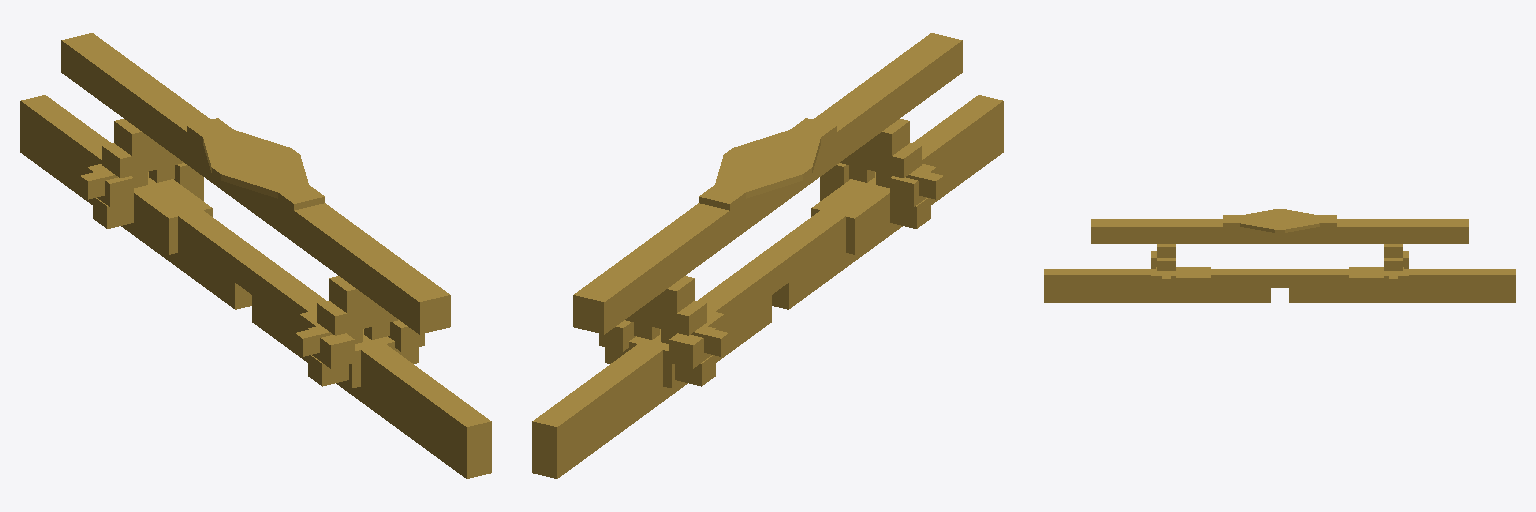
URDF robot description (gripper_beam_1C_90deg_3mm):
<?xml version="1.0" ?>
<robot name="gripper_beam_1C_90deg_3mm">
    <link name="gripper_beam_1C_90deg_3mm">
        <inertial>
            <origin rpy="0 0 0" xyz="-8.173542509136381e-19 4.919694157880184e-18 -0.12804086440536944"/>
            <mass value="4.310275841129159"/>
            <inertia ixx="0.0009413956070068256" ixy="7.905640841040137e-22" ixz="-4.517509052022935e-22" iyy="5.320772089153263e-05" iyz="-8.608675500661352e-21" izz="0.0008984210008906098"/>
        </inertial>
        <visual>
            <geometry>
                <mesh filename="gripper_beam_1C_90deg_3mm/meshes/visual/gripper_beam_1C_90deg_3mm.stl"/>
            </geometry>
            <material name="gripper_beam_1C_90deg_3mm"/>
        </visual>
        <collision>
            <geometry>
                <mesh filename="gripper_beam_1C_90deg_3mm/meshes/collision/gripper_beam_1C_90deg_3mm_0.stl"/>
            </geometry>
        </collision>
        <collision>
            <geometry>
                <mesh filename="gripper_beam_1C_90deg_3mm/meshes/collision/gripper_beam_1C_90deg_3mm_1.stl"/>
            </geometry>
        </collision>
        <collision>
            <geometry>
                <mesh filename="gripper_beam_1C_90deg_3mm/meshes/collision/gripper_beam_1C_90deg_3mm_10.stl"/>
            </geometry>
        </collision>
        <collision>
            <geometry>
                <mesh filename="gripper_beam_1C_90deg_3mm/meshes/collision/gripper_beam_1C_90deg_3mm_11.stl"/>
            </geometry>
        </collision>
        <collision>
            <geometry>
                <mesh filename="gripper_beam_1C_90deg_3mm/meshes/collision/gripper_beam_1C_90deg_3mm_12.stl"/>
            </geometry>
        </collision>
        <collision>
            <geometry>
                <mesh filename="gripper_beam_1C_90deg_3mm/meshes/collision/gripper_beam_1C_90deg_3mm_13.stl"/>
            </geometry>
        </collision>
        <collision>
            <geometry>
                <mesh filename="gripper_beam_1C_90deg_3mm/meshes/collision/gripper_beam_1C_90deg_3mm_14.stl"/>
            </geometry>
        </collision>
        <collision>
            <geometry>
                <mesh filename="gripper_beam_1C_90deg_3mm/meshes/collision/gripper_beam_1C_90deg_3mm_15.stl"/>
            </geometry>
        </collision>
        <collision>
            <geometry>
                <mesh filename="gripper_beam_1C_90deg_3mm/meshes/collision/gripper_beam_1C_90deg_3mm_16.stl"/>
            </geometry>
        </collision>
        <collision>
            <geometry>
                <mesh filename="gripper_beam_1C_90deg_3mm/meshes/collision/gripper_beam_1C_90deg_3mm_17.stl"/>
            </geometry>
        </collision>
        <collision>
            <geometry>
                <mesh filename="gripper_beam_1C_90deg_3mm/meshes/collision/gripper_beam_1C_90deg_3mm_18.stl"/>
            </geometry>
        </collision>
        <collision>
            <geometry>
                <mesh filename="gripper_beam_1C_90deg_3mm/meshes/collision/gripper_beam_1C_90deg_3mm_19.stl"/>
            </geometry>
        </collision>
        <collision>
            <geometry>
                <mesh filename="gripper_beam_1C_90deg_3mm/meshes/collision/gripper_beam_1C_90deg_3mm_2.stl"/>
            </geometry>
        </collision>
        <collision>
            <geometry>
                <mesh filename="gripper_beam_1C_90deg_3mm/meshes/collision/gripper_beam_1C_90deg_3mm_20.stl"/>
            </geometry>
        </collision>
        <collision>
            <geometry>
                <mesh filename="gripper_beam_1C_90deg_3mm/meshes/collision/gripper_beam_1C_90deg_3mm_21.stl"/>
            </geometry>
        </collision>
        <collision>
            <geometry>
                <mesh filename="gripper_beam_1C_90deg_3mm/meshes/collision/gripper_beam_1C_90deg_3mm_22.stl"/>
            </geometry>
        </collision>
        <collision>
            <geometry>
                <mesh filename="gripper_beam_1C_90deg_3mm/meshes/collision/gripper_beam_1C_90deg_3mm_23.stl"/>
            </geometry>
        </collision>
        <collision>
            <geometry>
                <mesh filename="gripper_beam_1C_90deg_3mm/meshes/collision/gripper_beam_1C_90deg_3mm_24.stl"/>
            </geometry>
        </collision>
        <collision>
            <geometry>
                <mesh filename="gripper_beam_1C_90deg_3mm/meshes/collision/gripper_beam_1C_90deg_3mm_3.stl"/>
            </geometry>
        </collision>
        <collision>
            <geometry>
                <mesh filename="gripper_beam_1C_90deg_3mm/meshes/collision/gripper_beam_1C_90deg_3mm_4.stl"/>
            </geometry>
        </collision>
        <collision>
            <geometry>
                <mesh filename="gripper_beam_1C_90deg_3mm/meshes/collision/gripper_beam_1C_90deg_3mm_5.stl"/>
            </geometry>
        </collision>
        <collision>
            <geometry>
                <mesh filename="gripper_beam_1C_90deg_3mm/meshes/collision/gripper_beam_1C_90deg_3mm_6.stl"/>
            </geometry>
        </collision>
        <collision>
            <geometry>
                <mesh filename="gripper_beam_1C_90deg_3mm/meshes/collision/gripper_beam_1C_90deg_3mm_7.stl"/>
            </geometry>
        </collision>
        <collision>
            <geometry>
                <mesh filename="gripper_beam_1C_90deg_3mm/meshes/collision/gripper_beam_1C_90deg_3mm_8.stl"/>
            </geometry>
        </collision>
        <collision>
            <geometry>
                <mesh filename="gripper_beam_1C_90deg_3mm/meshes/collision/gripper_beam_1C_90deg_3mm_9.stl"/>
            </geometry>
        </collision>
    </link>
    <material name="gripper_beam_1C_90deg_3mm">
        <color rgba="0.72 0.60 0.30 0.75"/>
    </material>
</robot>

--- Render facts (derived) ---
Views: 3 orthographic renders of the robot side by side, from view 1: azimuth 30°, elevation 25°; view 2: azimuth 150°, elevation 25°; view 3: azimuth 270°, elevation 25°.
Robot: gripper_beam_1C_90deg_3mm — 1 links, 0 joints (none); root link gripper_beam_1C_90deg_3mm; default pose: all joints at 0.
Links seen in each view (by area): view 1: gripper_beam_1C_90deg_3mm; view 2: gripper_beam_1C_90deg_3mm; view 3: gripper_beam_1C_90deg_3mm.
Boxes of the visible links, x1,y1,x2,y2 form: gripper_beam_1C_90deg_3mm: (20,33,491,478); gripper_beam_1C_90deg_3mm: (532,33,1003,478); gripper_beam_1C_90deg_3mm: (1044,209,1515,302).
Size in the robot's own frame: 0.208 by 1.25 by 0.234 metres.
Meshes: 1 distinct files referenced, 1 mesh visuals loaded (1 binary STL).
